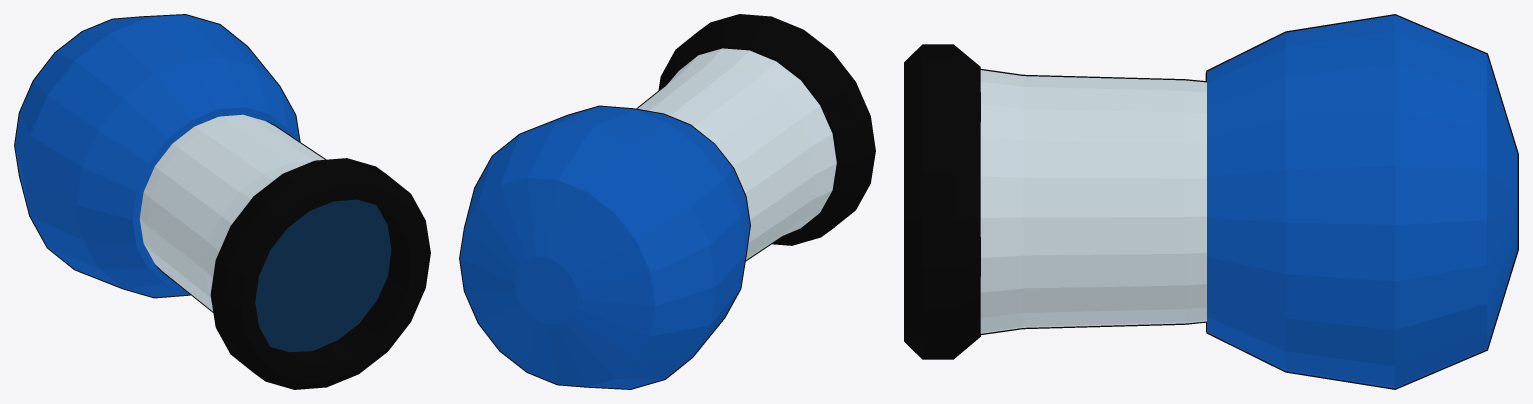
Rendered from CannonNozzle.glb.
3 renders of one model, left to right at view 1: azimuth 30°, elevation 25°; view 2: azimuth 150°, elevation 25°; view 3: azimuth 270°, elevation 25°, orthographic. The views are drawn at different scales.
Visible parts, largest first — view 1: CannonNozzle; view 2: CannonNozzle; view 3: CannonNozzle.
Part boxes in pixels (<box>): CannonNozzle: <box>14,14,430,389</box>; CannonNozzle: <box>459,14,875,389</box>; CannonNozzle: <box>904,14,1518,389</box>.
Bounding box in the file's own units: 0.866 × 0.866 × 1.41.
